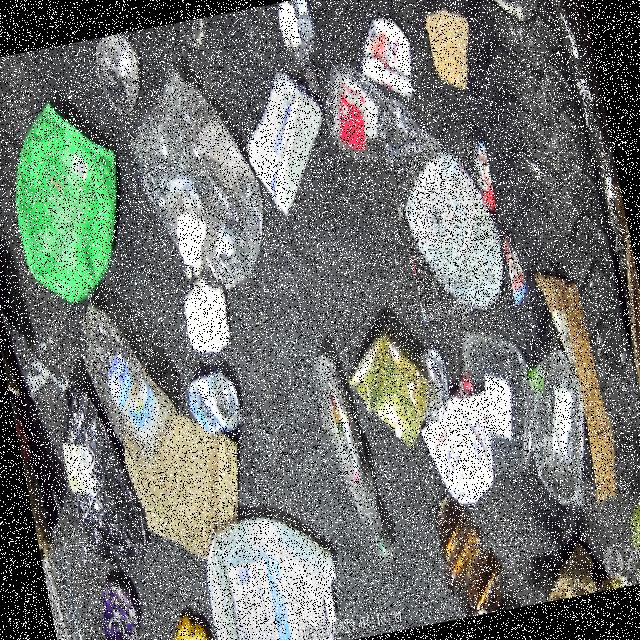milk-jug: (191, 501, 354, 640), (392, 140, 514, 322)
